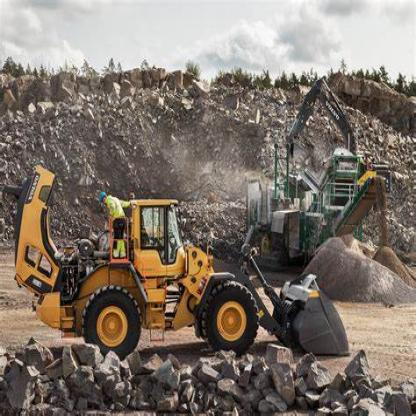bull_dozer/loader/grader: (20, 162, 358, 362)
